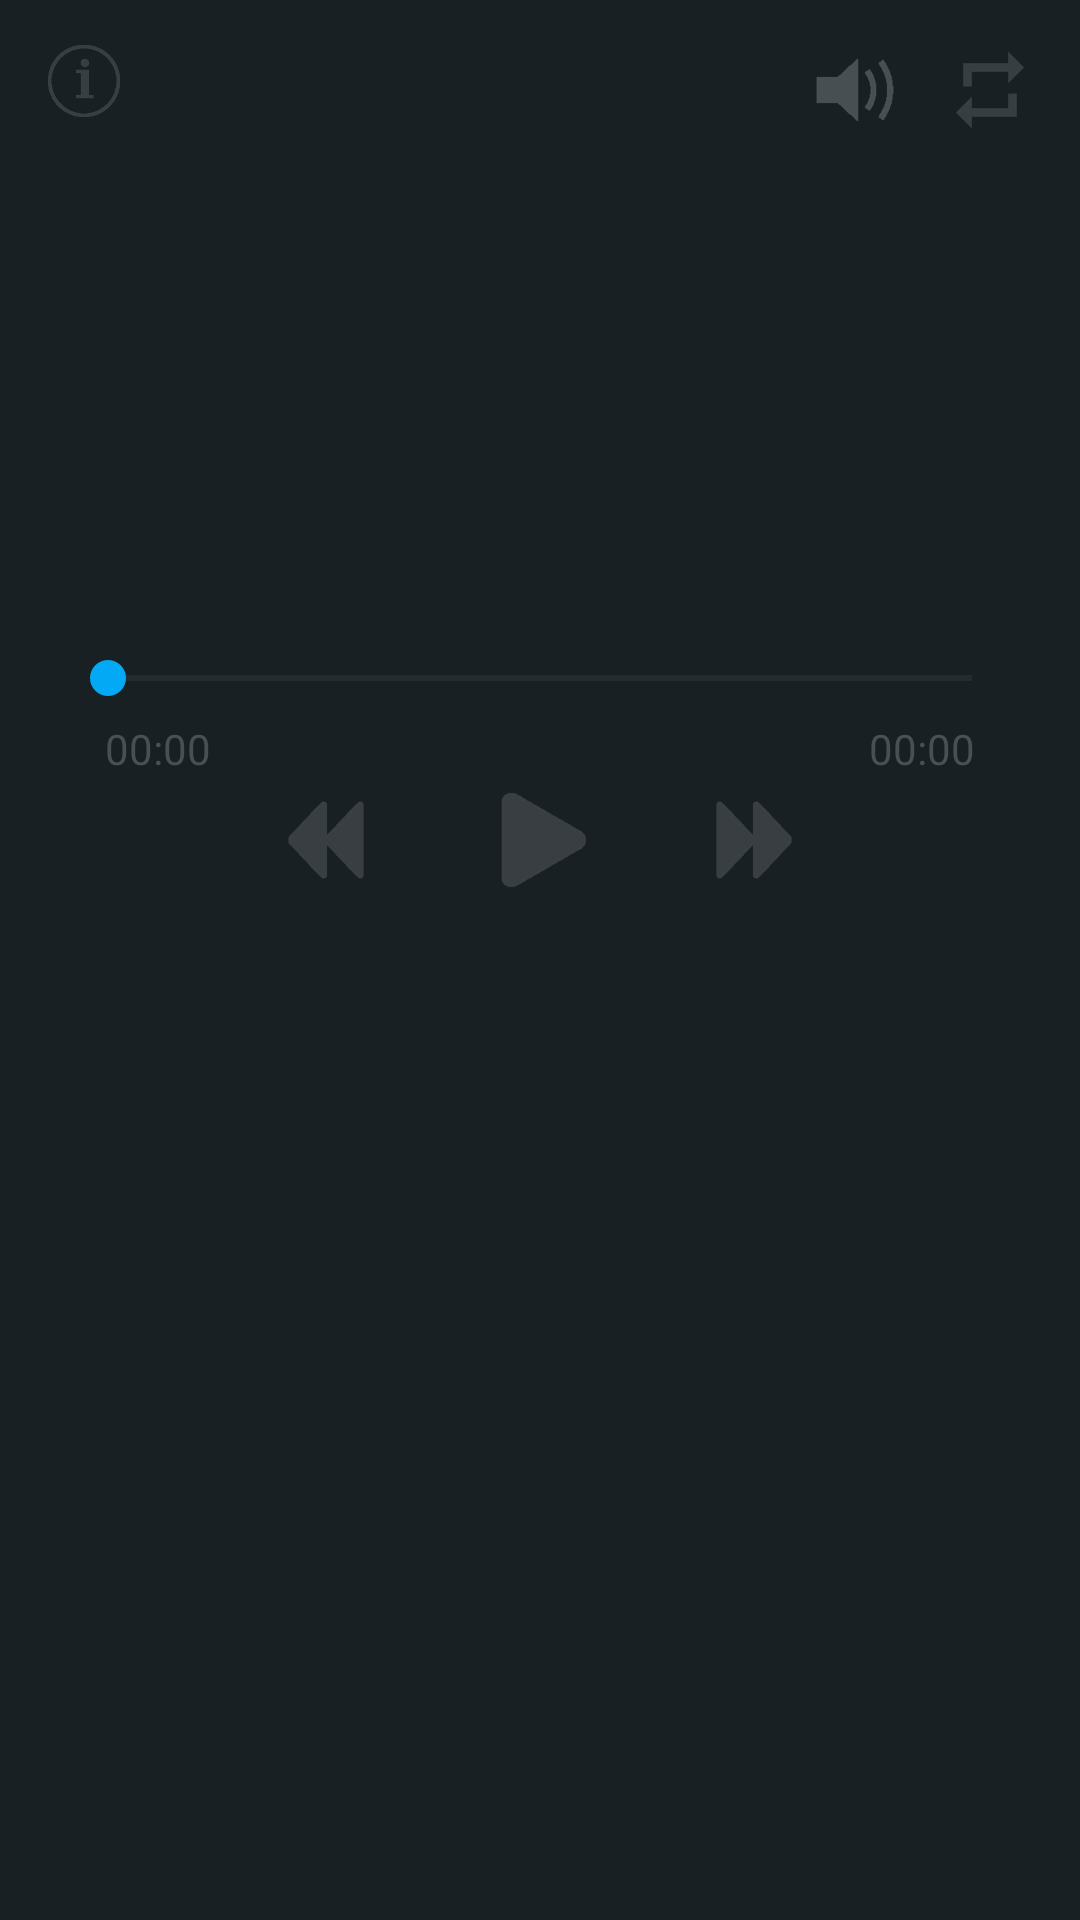

Screen size 1080*1920. Icon name, then its box in pixels as (x1,y1,x2,y2):
details: (48,45,120,117)
next song: (717,802,791,878)
not repeat: (956,53,1024,127)
play song: (502,793,586,887)
previous song: (289,802,363,878)
volume: (817,59,893,121)
